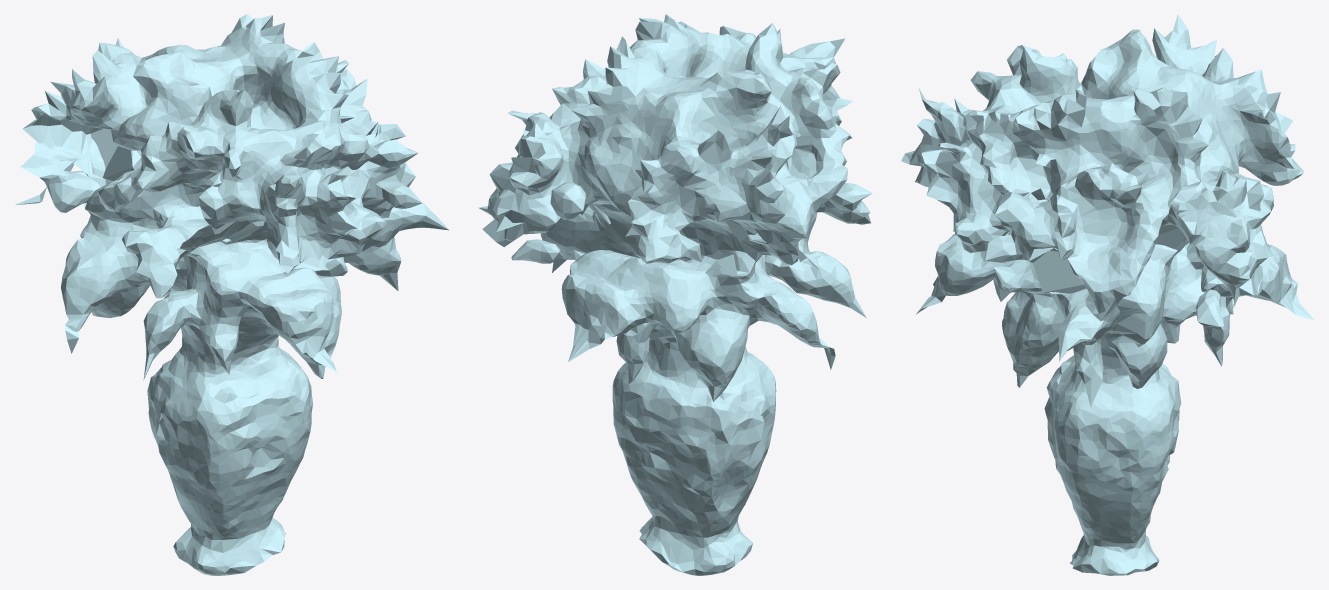
Rendered from sunflower-canny.glb.
3 views of the same model, side by side, from view 1: azimuth 30°, elevation 25°; view 2: azimuth 150°, elevation 25°; view 3: azimuth 270°, elevation 25° (orthographic).
Parts seen in each view (by area): view 1: extracted_mesh; view 2: extracted_mesh; view 3: extracted_mesh.
Part boxes in pixels (x1,y1,x2,y2): extracted_mesh: (15, 14, 449, 575); extracted_mesh: (478, 14, 872, 575); extracted_mesh: (901, 14, 1314, 575).
Bounding box in the file's own units: 0.7538 × 1.03 × 0.7506.
Materials: 1 (1 with a texture image).
